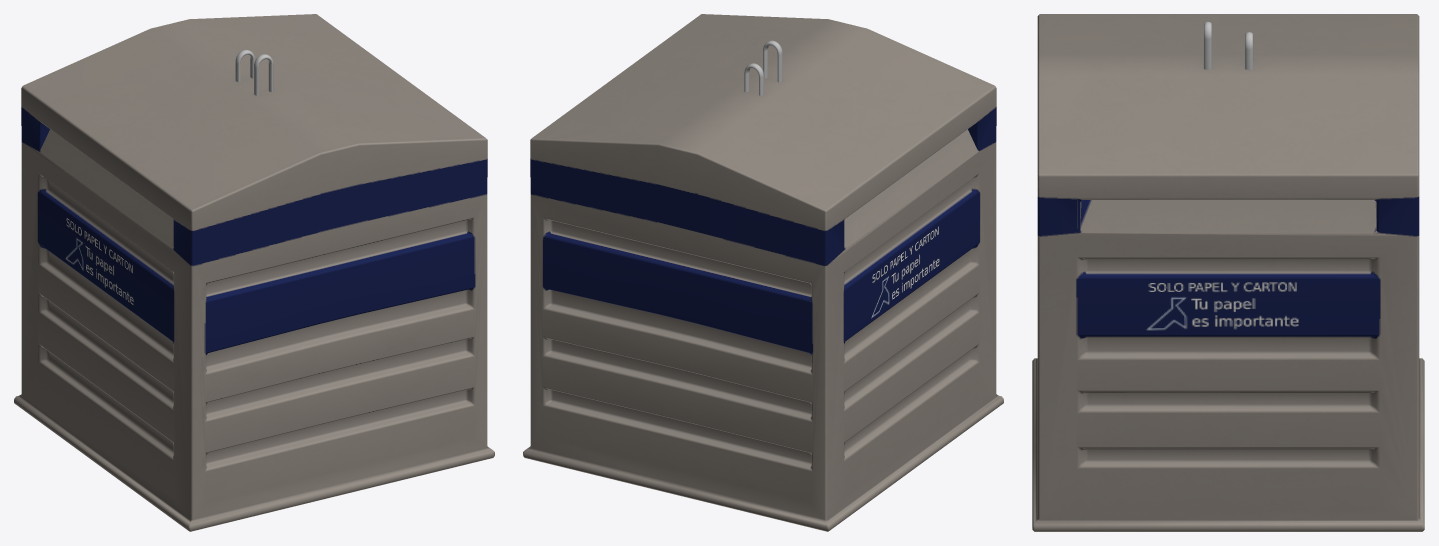
Rendered from bin.glb.
3 views of the same model, side by side, from view 1: azimuth 30°, elevation 25°; view 2: azimuth 150°, elevation 25°; view 3: azimuth 270°, elevation 25° (orthographic). The views are drawn at different scales.
Visible parts, largest first — view 1: Cubo carton sin mods; view 2: Cubo carton sin mods; view 3: Cubo carton sin mods.
Part boxes in pixels (left/top/right/bottom): Cubo carton sin mods: left=14, top=14, right=494, bottom=531; Cubo carton sin mods: left=523, top=14, right=1003, bottom=531; Cubo carton sin mods: left=1032, top=14, right=1424, bottom=531.
Size of the model in its own units: 1.35 by 1.61 by 1.34.
1 material, 1 textured.
